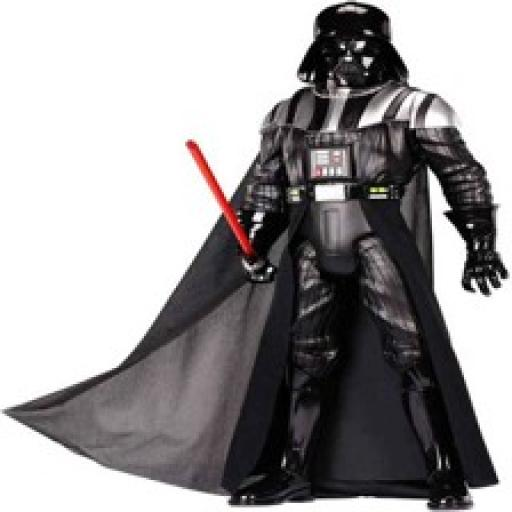human: (223, 0, 512, 507)
sith saber: (185, 134, 275, 285)
